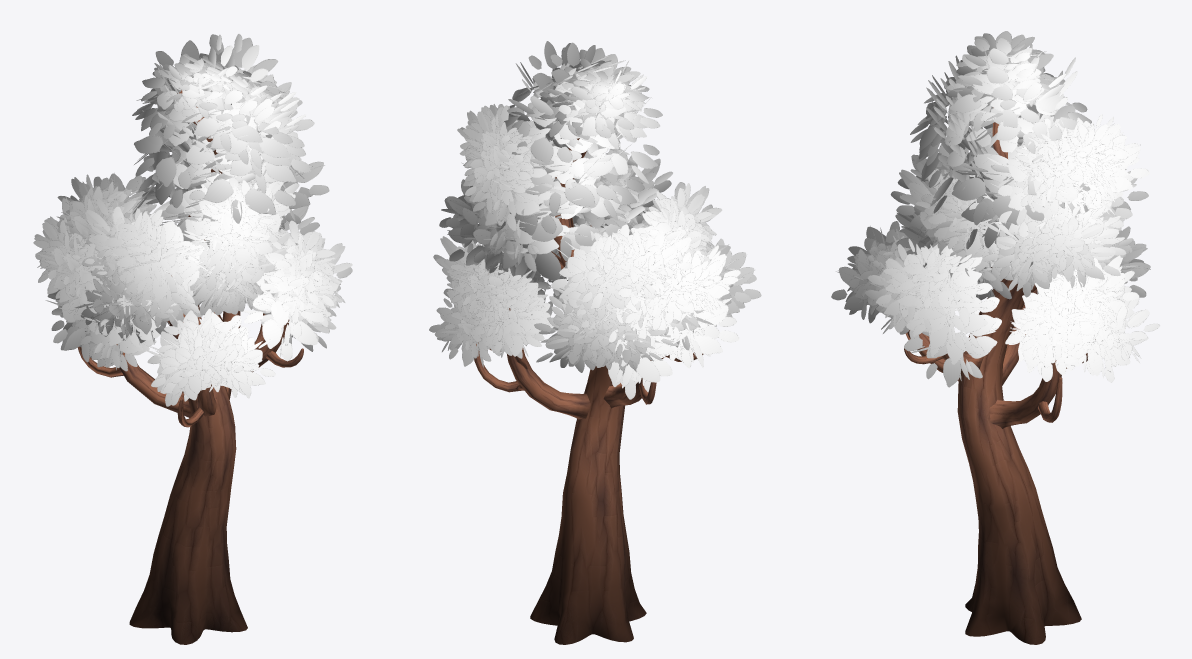
File: CommonTree_2.gltf
3 renders of one model, left to right at view 1: azimuth 30°, elevation 25°; view 2: azimuth 150°, elevation 25°; view 3: azimuth 270°, elevation 25°, orthographic. The views are drawn at different scales.
Parts seen in each view (by area): view 1: CommonTree_2; view 2: CommonTree_2; view 3: CommonTree_2.
Boxes of the visible parts, x1,y1,x2,y2 form: CommonTree_2: [33, 34, 352, 644]; CommonTree_2: [429, 41, 761, 644]; CommonTree_2: [831, 31, 1159, 644].
Bounding box in the file's own units: 4.46 × 7.64 × 4.28.
2 materials, 2 textured.
